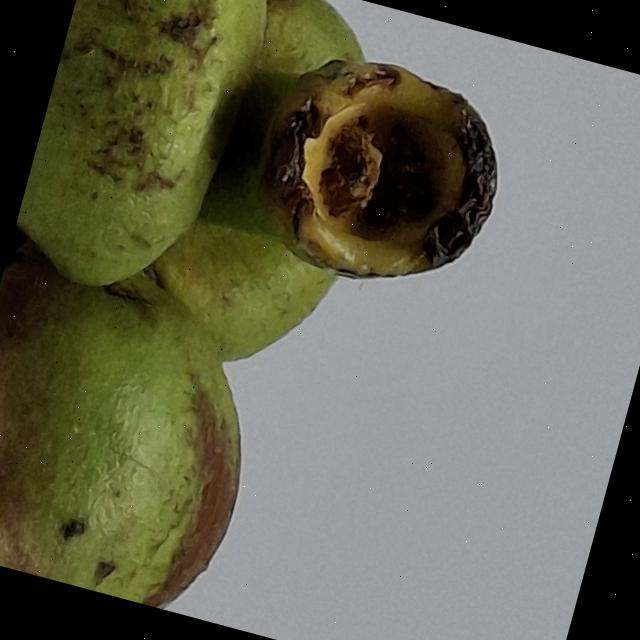mangosteen: (0, 0, 562, 640)
